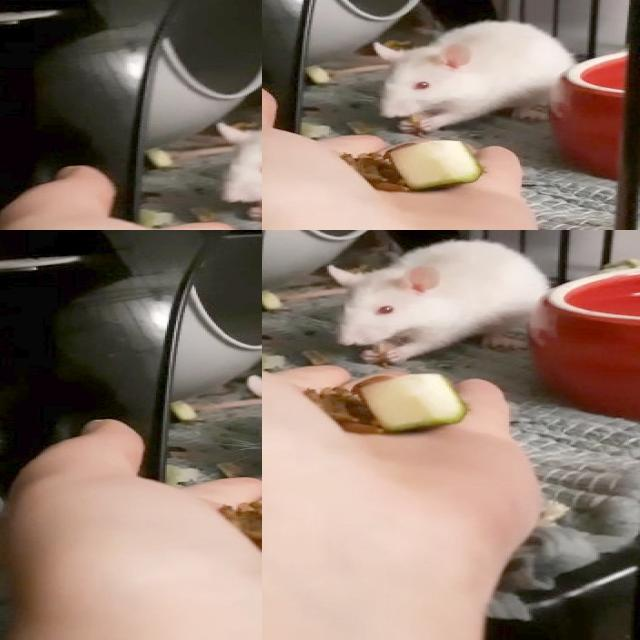rat: (325, 241, 548, 367), (360, 16, 570, 133), (208, 98, 262, 219)
